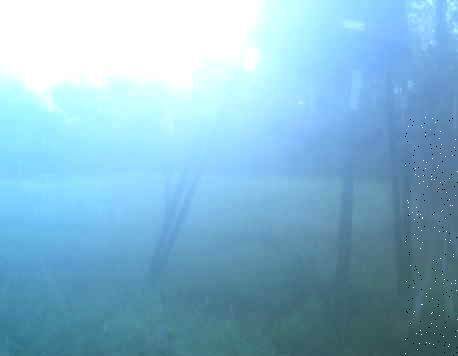Deer: (405, 117, 458, 356)
